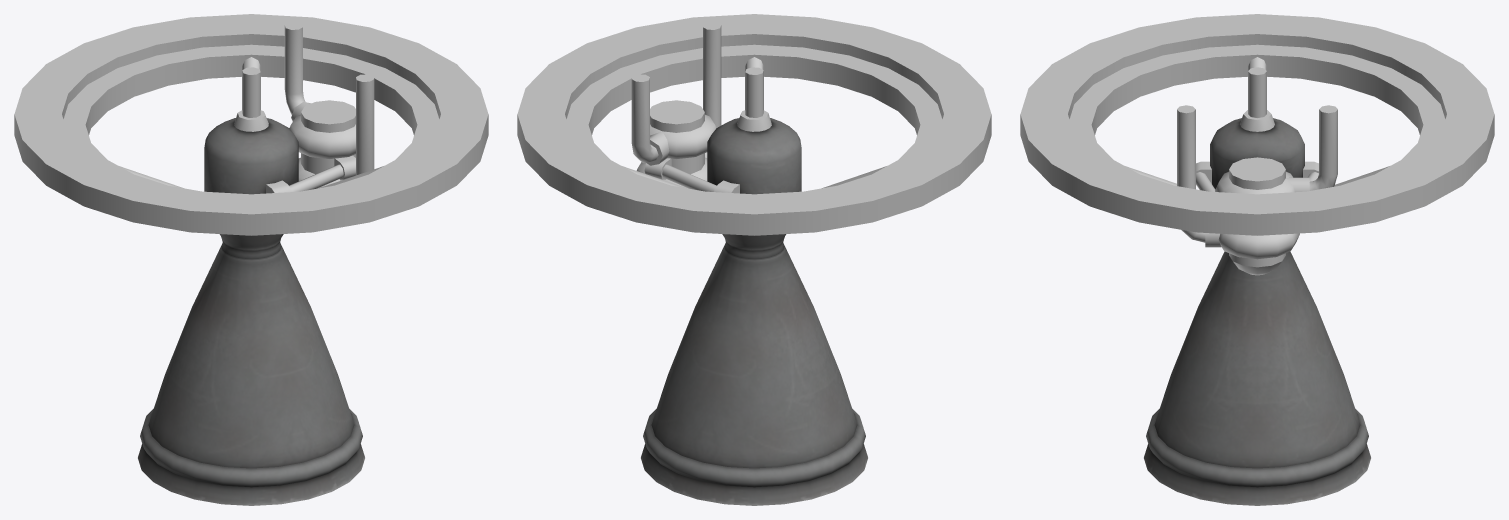
The model's file is corvus_lv_bare_engine_s1_2.obj.
3 views of the same model, side by side, from view 1: azimuth 30°, elevation 25°; view 2: azimuth 150°, elevation 25°; view 3: azimuth 270°, elevation 25° (orthographic).
Parts seen in each view (by area): view 1: corvus_lv_bare_engine_s1_2_corvus_lv_bare_engine_s1_2_auv, corvus_lv_bare_engine_s1_2_corvus_lv_bare_engine_s1_2_nozzle_auv; view 2: corvus_lv_bare_engine_s1_2_corvus_lv_bare_engine_s1_2_auv, corvus_lv_bare_engine_s1_2_corvus_lv_bare_engine_s1_2_nozzle_auv; view 3: corvus_lv_bare_engine_s1_2_corvus_lv_bare_engine_s1_2_auv, corvus_lv_bare_engine_s1_2_corvus_lv_bare_engine_s1_2_nozzle_auv.
Part boxes in pixels (x1,y1,x2,y2): corvus_lv_bare_engine_s1_2_corvus_lv_bare_engine_s1_2_auv: (14,14,488,235); corvus_lv_bare_engine_s1_2_corvus_lv_bare_engine_s1_2_nozzle_auv: (138,118,364,505); corvus_lv_bare_engine_s1_2_corvus_lv_bare_engine_s1_2_auv: (517,14,991,235); corvus_lv_bare_engine_s1_2_corvus_lv_bare_engine_s1_2_nozzle_auv: (641,118,867,505); corvus_lv_bare_engine_s1_2_corvus_lv_bare_engine_s1_2_auv: (1020,14,1494,275); corvus_lv_bare_engine_s1_2_corvus_lv_bare_engine_s1_2_nozzle_auv: (1144,118,1370,505).
Size of the model in its own units: 1.25 by 1.12 by 1.25.
